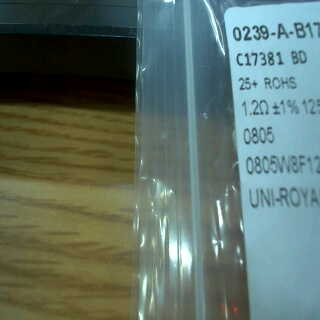1.2R: (240, 96, 274, 147)
